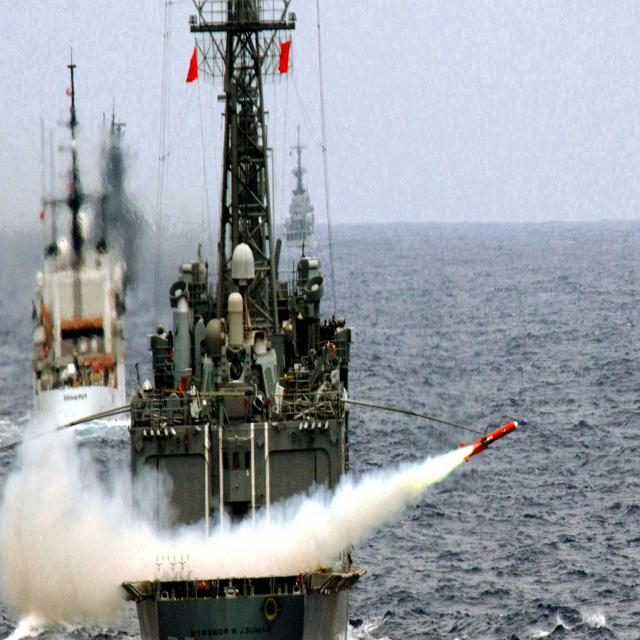navalvessels: (118, 0, 366, 640), (8, 92, 150, 439), (280, 139, 329, 270)
